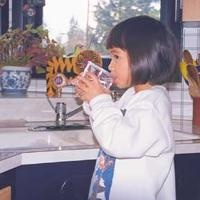person without safety: (85, 14, 182, 200)
